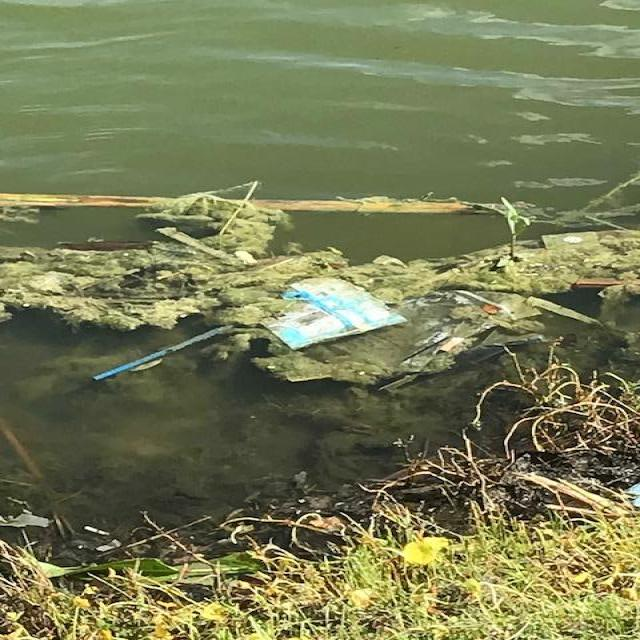litter: (264, 276, 395, 347), (433, 335, 471, 355)
